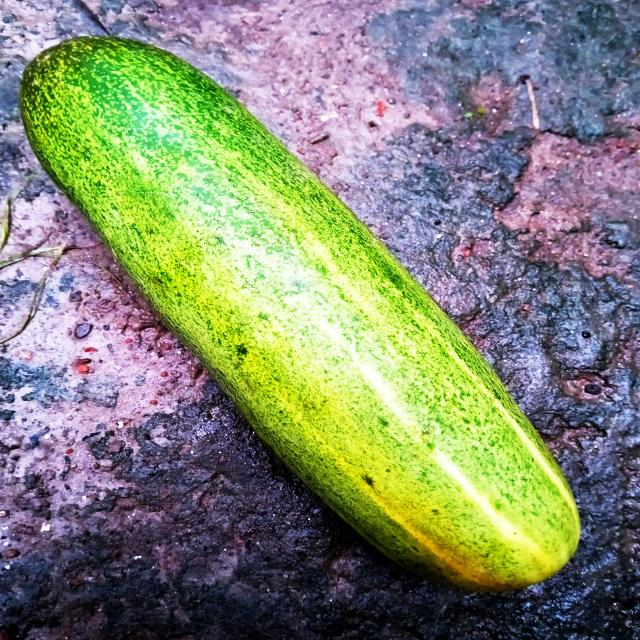Fresh-Cucumber: (19, 31, 584, 596)
